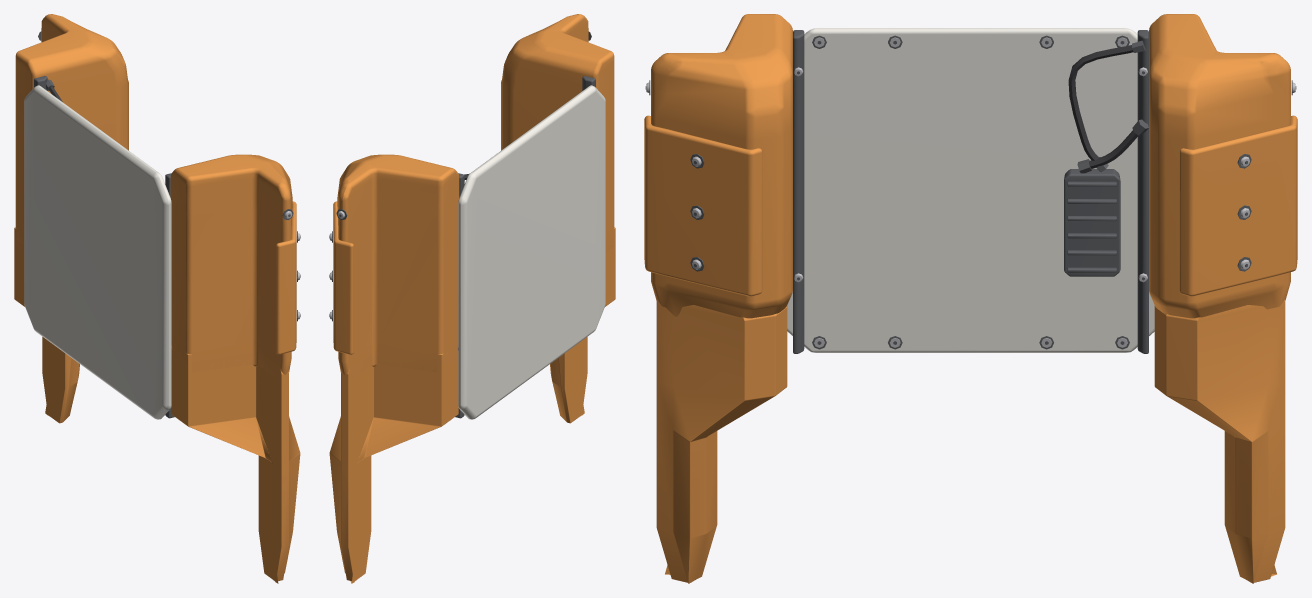
File: plate_wedge_top_hdpe.glb
The picture shows the model from 3 angles, left to right: view 1: azimuth 30°, elevation 25°; view 2: azimuth 150°, elevation 25°; view 3: azimuth 270°, elevation 25°; orthographic projection. The views are drawn at different scales.
Visible parts, largest first — view 1: body; view 2: body; view 3: body.
Part boxes in pixels (x1=…): body: x1=14, y1=14, x2=300, y2=583; body: x1=329, y1=14, x2=615, y2=583; body: x1=644, y1=14, x2=1297, y2=583.
Size of the model in its own units: 0.1898 by 0.6106 by 0.6897.
